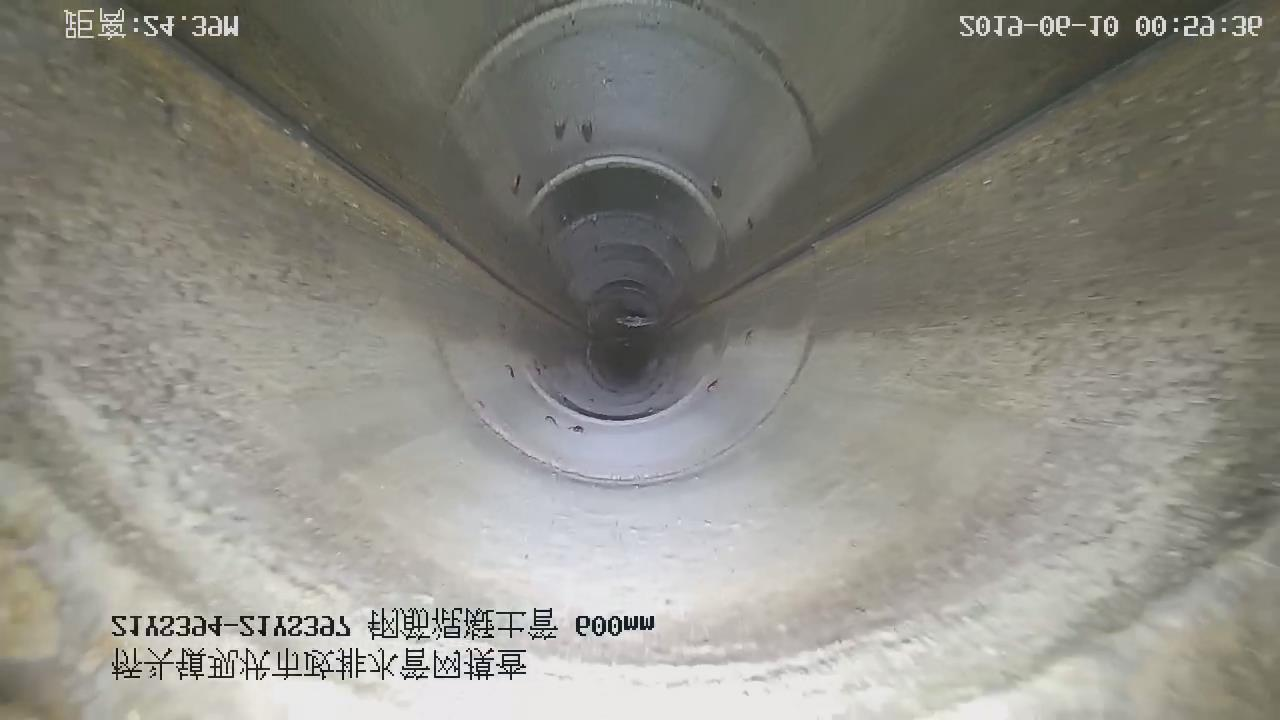CKTJ: (522, 370, 717, 427)
